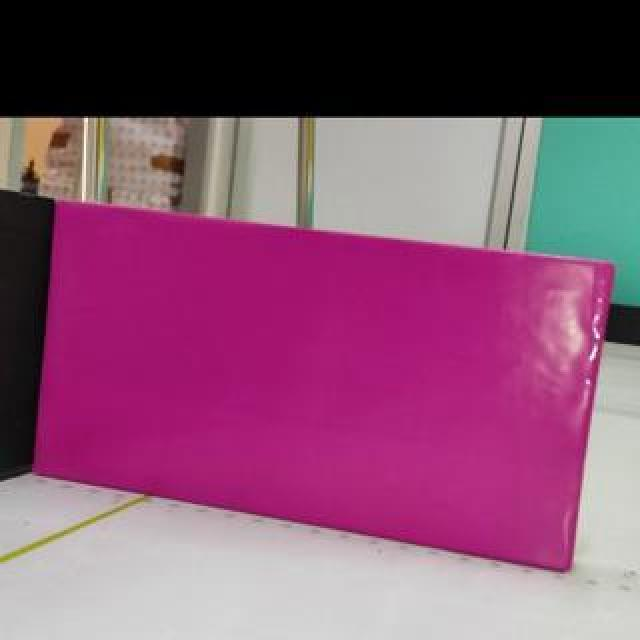xparking: (33, 199, 608, 570)
